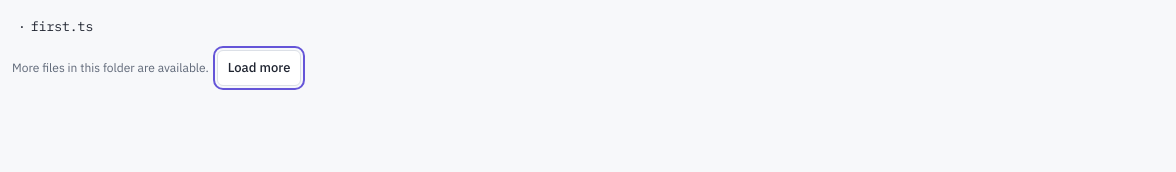
Test: keeps loaded folder items on next-page failure, retries only that page, and restores focus at the end
What coordinates should you click on to do the following:
click the button with aria-label "Load more files in this folder"
I would click on:
 (259, 68)
Its box is top-left (217, 50), bottom-right (301, 86).
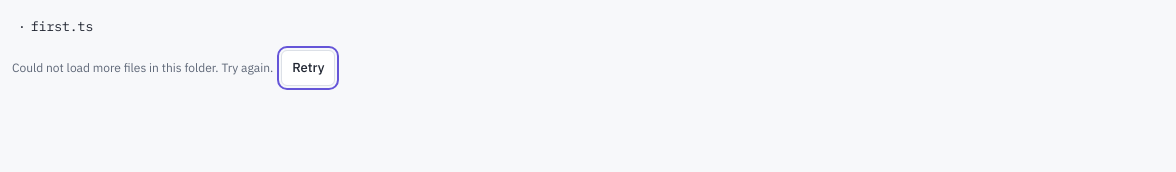
Expected: the button "· first.ts" is shown, top-left (12, 12), bottom-right (1164, 42)
What coordinates should you click on to do the following:
click the button with aria-label "Retry loading files in this folder"
I would click on:
 (308, 68)
Its box is top-left (281, 50), bottom-right (335, 86).
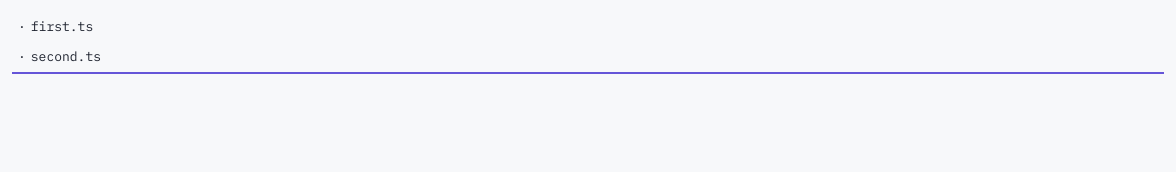
Expected: the message "Could not load more files in this folder. Try again." is gone
